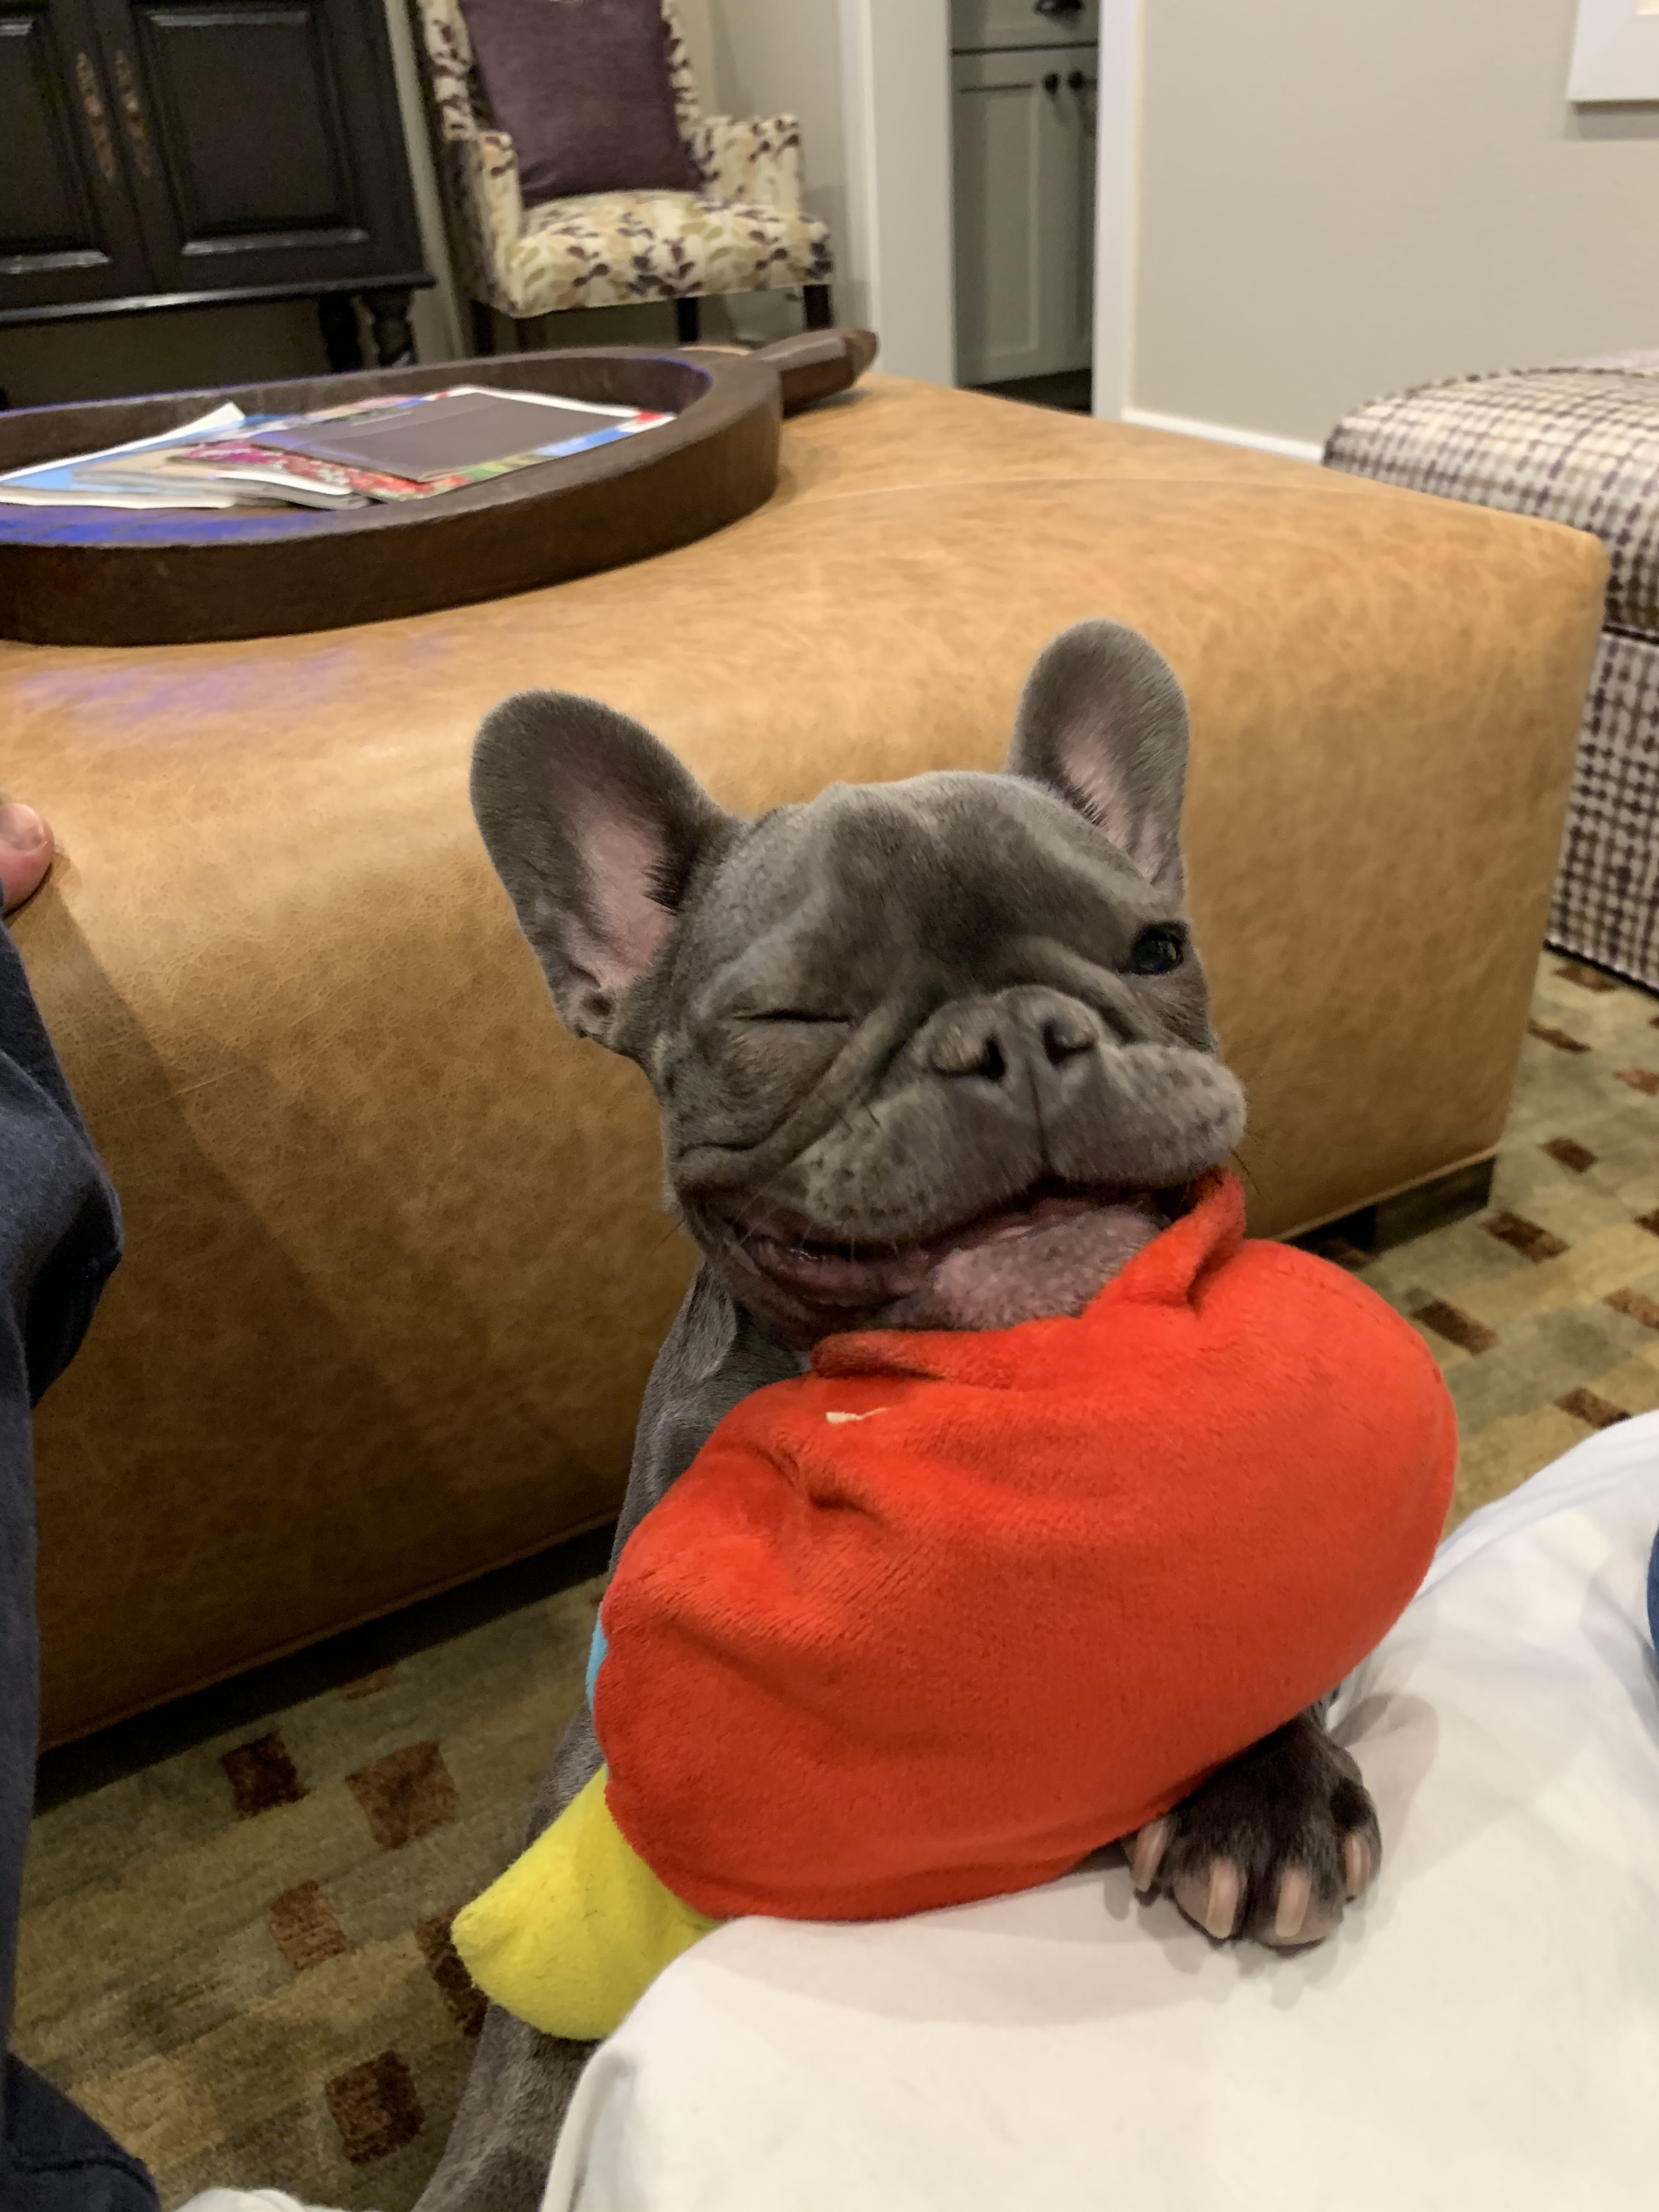lucy: (413, 618, 1380, 2202)
